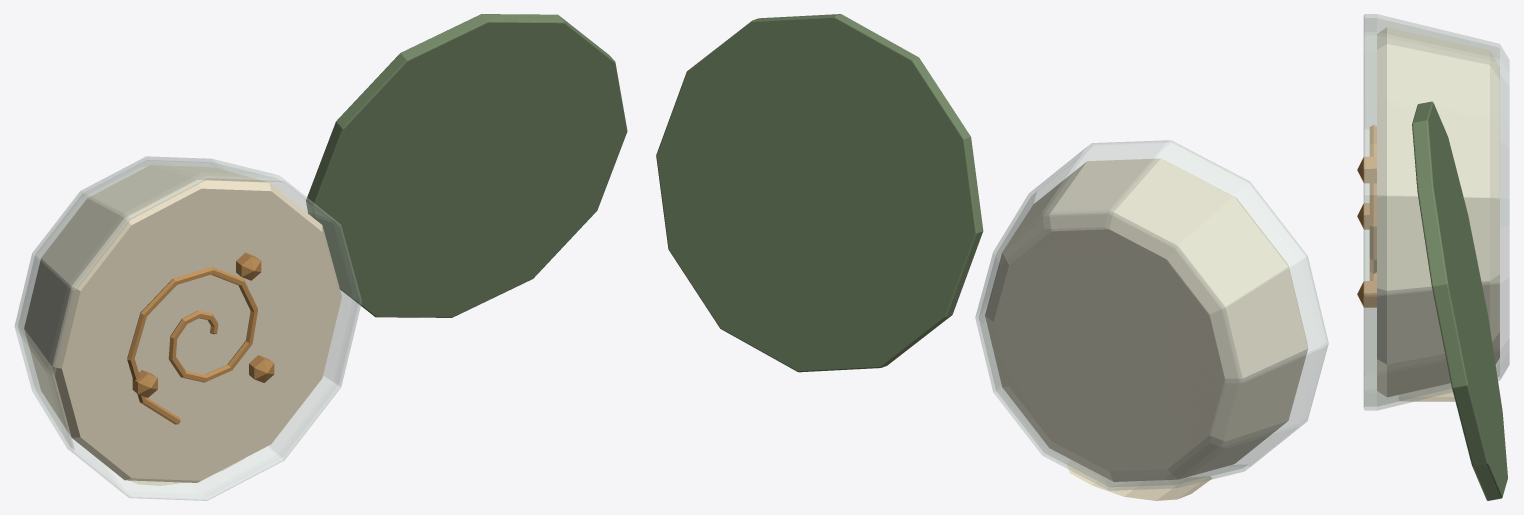
Rendered from hummus.glb.
3 renders of one model, left to right at view 1: azimuth 30°, elevation 25°; view 2: azimuth 150°, elevation 25°; view 3: azimuth 270°, elevation 25°, orthographic. The views are drawn at different scales.
Parts seen in each view (by area): view 1: hummus; view 2: hummus; view 3: hummus.
Boxes of the visible parts, x1,y1,x2,y2 form: hummus: (14, 14, 627, 500); hummus: (656, 14, 1328, 500); hummus: (1357, 14, 1509, 500).
Size of the model in its own units: 0.238 by 0.1452 by 0.046.
